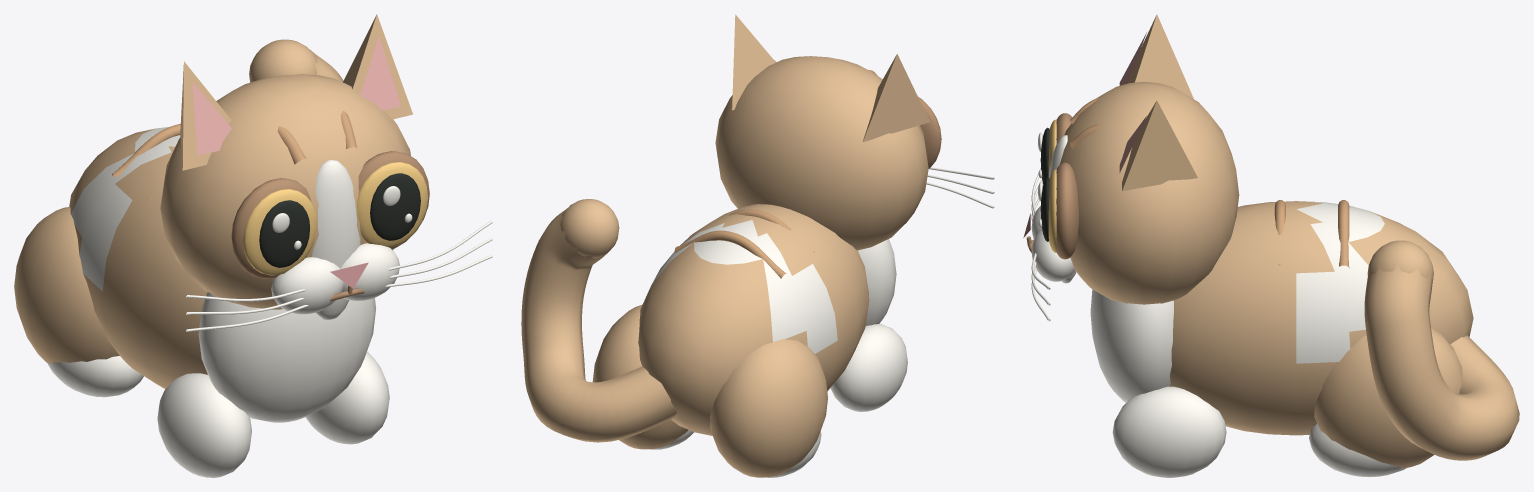
The model's file is cat.glb.
3 renders of one model, left to right at view 1: azimuth 30°, elevation 25°; view 2: azimuth 150°, elevation 25°; view 3: azimuth 270°, elevation 25°, orthographic. The views are drawn at different scales.
Parts seen in each view (by area): view 1: Large round ginger head, Round cream ginger body, White chest, Soft back haunch, White little front socks, White little front socks.001, White face blaze, White plush muzzle, White back socks, Round pupils, Round pupils.001, Amber gold eyes (+10 smaller); view 2: Round cream ginger body, Large round ginger head, Curled cream tail, Soft back haunch, White little front socks, Soft back haunch.001, Soft pointed ear, Rounded tail tip, White chest, Soft pointed ear.001, Subtle back markings, Eyeliner; view 3: Round cream ginger body, Large round ginger head, Curled cream tail, Soft back haunch.001, White little front socks.001, White chest, Soft pointed ear.001, Soft pointed ear, White back socks.001, Eyeliner.001, Rounded tail tip, White plush muzzle.001 (+2 smaller).
Boxes of the visible parts, left/top/right/bottom form: Large round ginger head: left=160, top=74, right=410, bottom=309; Round cream ginger body: left=69, top=127, right=207, bottom=389; White chest: left=198, top=292, right=376, bottom=422; Soft back haunch: left=14, top=207, right=119, bottom=363; White little front socks: left=157, top=373, right=251, bottom=477; White little front socks.001: left=305, top=352, right=389, bottom=444; White face blaze: left=312, top=160, right=360, bottom=319; White plush muzzle: left=271, top=257, right=343, bottom=314; White back socks: left=47, top=356, right=143, bottom=397; Round pupils: left=259, top=200, right=309, bottom=267; Round pupils.001: left=370, top=173, right=420, bottom=240; Amber gold eyes: left=243, top=189, right=317, bottom=275; Round cream ginger body: left=638, top=204, right=869, bottom=435; Large round ginger head: left=715, top=56, right=928, bottom=250; Curled cream tail: left=521, top=208, right=676, bottom=442; Soft back haunch: left=710, top=339, right=827, bottom=477; White little front socks: left=830, top=323, right=907, bottom=411; Soft back haunch.001: left=592, top=304, right=688, bottom=449; Soft pointed ear: left=863, top=54, right=929, bottom=141; Rounded tail tip: left=560, top=199, right=619, bottom=258; White chest: left=858, top=239, right=896, bottom=325; Soft pointed ear.001: left=732, top=14, right=775, bottom=110; Subtle back markings: left=674, top=230, right=786, bottom=278; Eyeliner: left=918, top=97, right=941, bottom=168; Round cream ginger body: left=1170, top=201, right=1473, bottom=435; Large round ginger head: left=1059, top=81, right=1239, bottom=304; Curled cream tail: left=1364, top=265, right=1519, bottom=460; Soft back haunch.001: left=1314, top=328, right=1462, bottom=468; White little front socks.001: left=1112, top=386, right=1226, bottom=477; White chest: left=1090, top=289, right=1173, bottom=402; Soft pointed ear.001: left=1122, top=101, right=1197, bottom=190; Soft pointed ear: left=1127, top=14, right=1193, bottom=98; White back socks.001: left=1309, top=424, right=1406, bottom=477; Eyeliner.001: left=1056, top=162, right=1078, bottom=259; Rounded tail tip: left=1367, top=240, right=1433, bottom=284; White plush muzzle.001: left=1031, top=229, right=1074, bottom=281.
Size of the model in its own units: 1.21 by 1.35 by 1.57.
